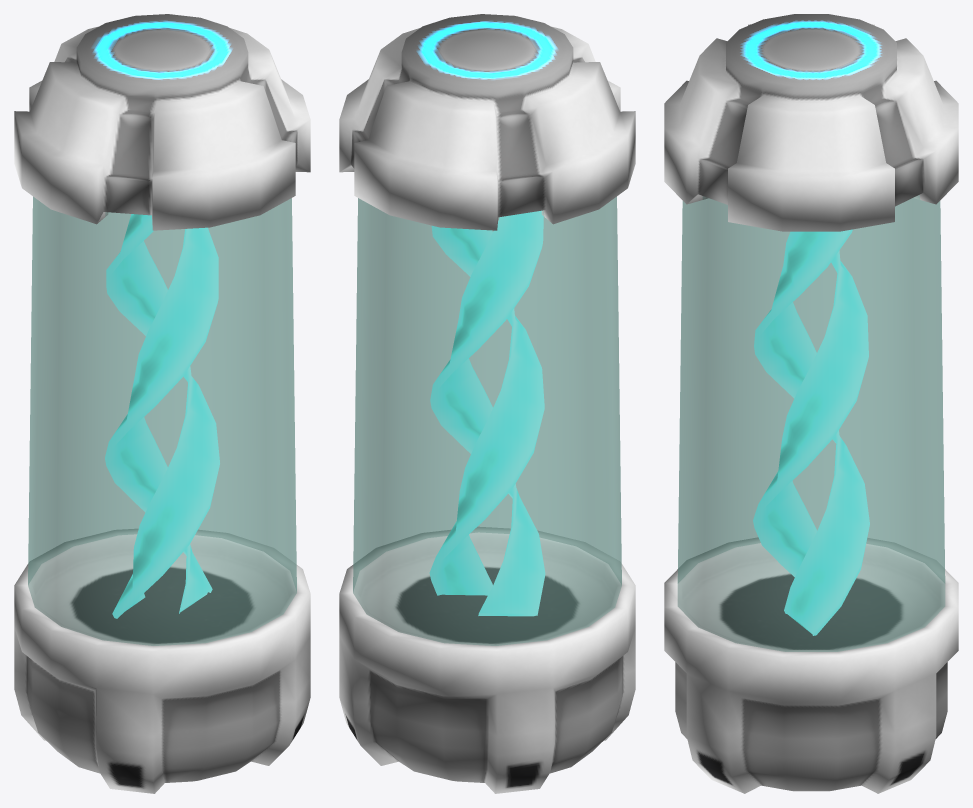
The model's file is LabTubes02_5.FBX.
3 renders of one model, left to right at view 1: azimuth 30°, elevation 25°; view 2: azimuth 150°, elevation 25°; view 3: azimuth 270°, elevation 25°, orthographic.
Visible parts, largest first — view 1: LabTubes02_5; view 2: LabTubes02_5; view 3: LabTubes02_5.
Part boxes in pixels (x1,y1,x2,y2): LabTubes02_5: [14, 14, 310, 793]; LabTubes02_5: [339, 14, 635, 793]; LabTubes02_5: [664, 14, 958, 793].
Size of what is drawn, in the model's own units: 0.1124 by 0.2957 by 0.1124.
